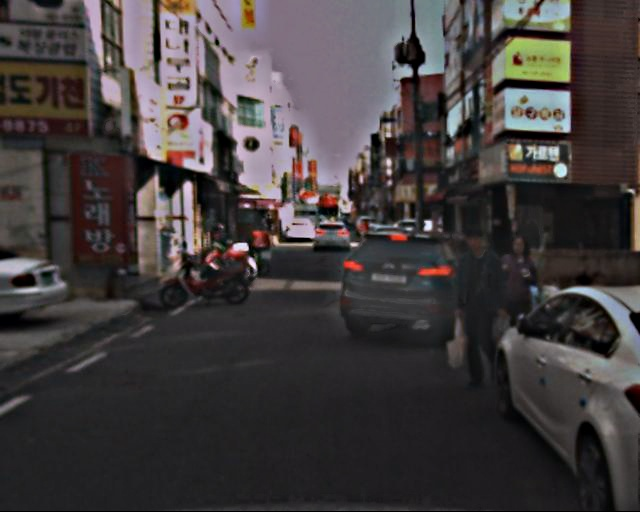person: (445, 230, 512, 390), (489, 236, 547, 363), (262, 214, 275, 245)
